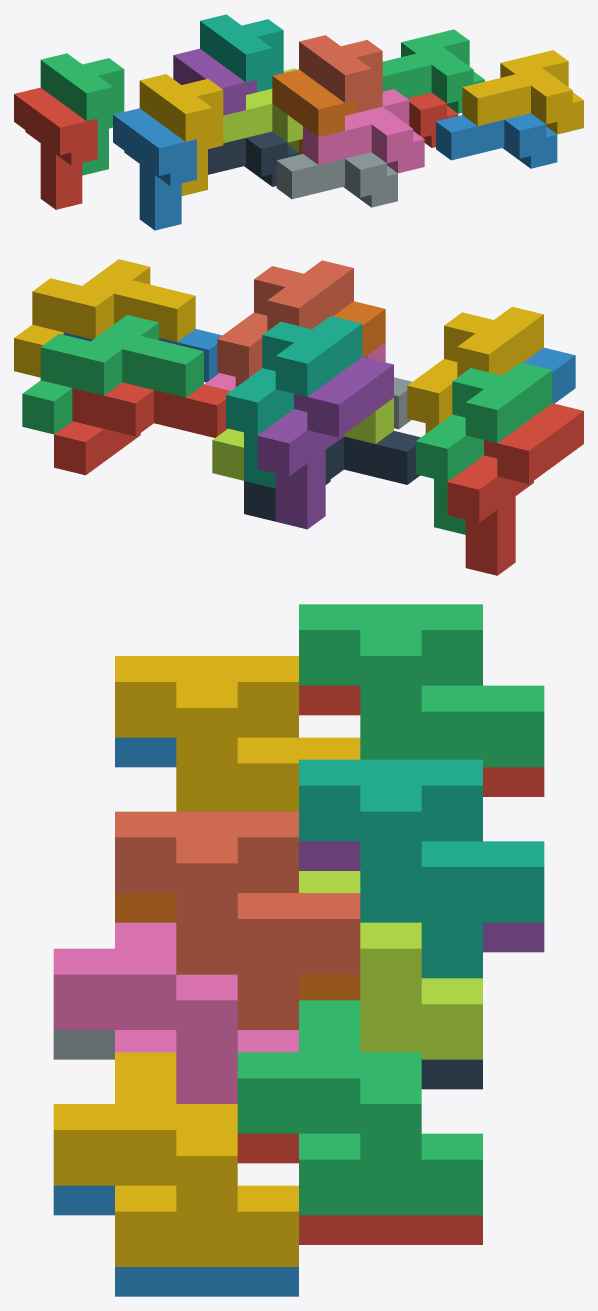
File: tiling.obj
The picture shows the model from 3 angles, top to bottom: view 1: azimuth 30°, elevation 25°; view 2: azimuth 150°, elevation 25°; view 3: azimuth 270°, elevation 25°; orthographic projection. The views are drawn at different scales.
Parts seen in each view (by area): view 1: copy_2_domain_8, copy_1_domain_2, copy_1_domain_1, copy_2_domain_4, copy_1_domain_4, copy_1_domain_3, copy_2_domain_7, copy_2_domain_6, copy_2_domain_2, copy_1_domain_8, copy_1_domain_7, copy_1_domain_6 (+4 smaller); view 2: copy_2_domain_7, copy_1_domain_1, copy_1_domain_5, copy_2_domain_8, copy_1_domain_7, copy_1_domain_3, copy_2_domain_5, copy_1_domain_8, copy_1_domain_4, copy_2_domain_1, copy_2_domain_3, copy_1_domain_2 (+4 smaller); view 3: copy_1_domain_7, copy_1_domain_8, copy_2_domain_7, copy_2_domain_8, copy_1_domain_3, copy_1_domain_4, copy_2_domain_4, copy_2_domain_3, copy_2_domain_5, copy_2_domain_6, copy_1_domain_1, copy_1_domain_5 (+4 smaller).
Boxes of the visible parts, left/top/right/bottom form: copy_2_domain_8: left=462, top=50, right=583, bottom=134; copy_1_domain_2: left=113, top=108, right=196, bottom=230; copy_1_domain_1: left=14, top=87, right=97, bottom=209; copy_2_domain_4: left=303, top=89, right=424, bottom=173; copy_1_domain_4: left=139, top=74, right=223, bottom=195; copy_1_domain_3: left=40, top=53, right=124, bottom=175; copy_2_domain_7: left=382, top=29, right=484, bottom=113; copy_2_domain_6: left=436, top=113, right=557, bottom=168; copy_2_domain_2: left=276, top=152, right=397, bottom=207; copy_1_domain_8: left=299, top=35, right=382, bottom=112; copy_1_domain_7: left=200, top=14, right=283, bottom=92; copy_1_domain_6: left=272, top=69, right=356, bottom=154; copy_2_domain_7: left=22, top=314, right=203, bottom=434; copy_1_domain_1: left=447, top=403, right=583, bottom=575; copy_1_domain_5: left=257, top=357, right=393, bottom=529; copy_2_domain_8: left=14, top=259, right=195, bottom=377; copy_1_domain_7: left=226, top=316, right=362, bottom=488; copy_1_domain_3: left=416, top=362, right=552, bottom=534; copy_2_domain_5: left=54, top=382, right=230, bottom=475; copy_1_domain_8: left=217, top=260, right=353, bottom=387; copy_1_domain_4: left=407, top=306, right=543, bottom=433; copy_2_domain_1: left=244, top=431, right=420, bottom=521; copy_2_domain_3: left=212, top=398, right=393, bottom=480; copy_1_domain_2: left=523, top=347, right=575, bottom=403; copy_1_domain_7: left=299, top=759, right=544, bottom=978; copy_1_domain_8: left=115, top=811, right=360, bottom=1029; copy_2_domain_7: left=237, top=1000, right=482, bottom=1215; copy_2_domain_8: left=53, top=1052, right=298, bottom=1266; copy_1_domain_3: left=299, top=604, right=544, bottom=767; copy_1_domain_4: left=115, top=656, right=360, bottom=811; copy_2_domain_4: left=53, top=922, right=298, bottom=1103; copy_2_domain_3: left=299, top=871, right=482, bottom=1059; copy_2_domain_5: left=237, top=1133, right=482, bottom=1244; copy_2_domain_6: left=53, top=1185, right=298, bottom=1296; copy_1_domain_1: left=299, top=685, right=544, bottom=796; copy_1_domain_5: left=299, top=841, right=544, bottom=952.
Bounding box in the file's own units: 18 × 5 × 8.
